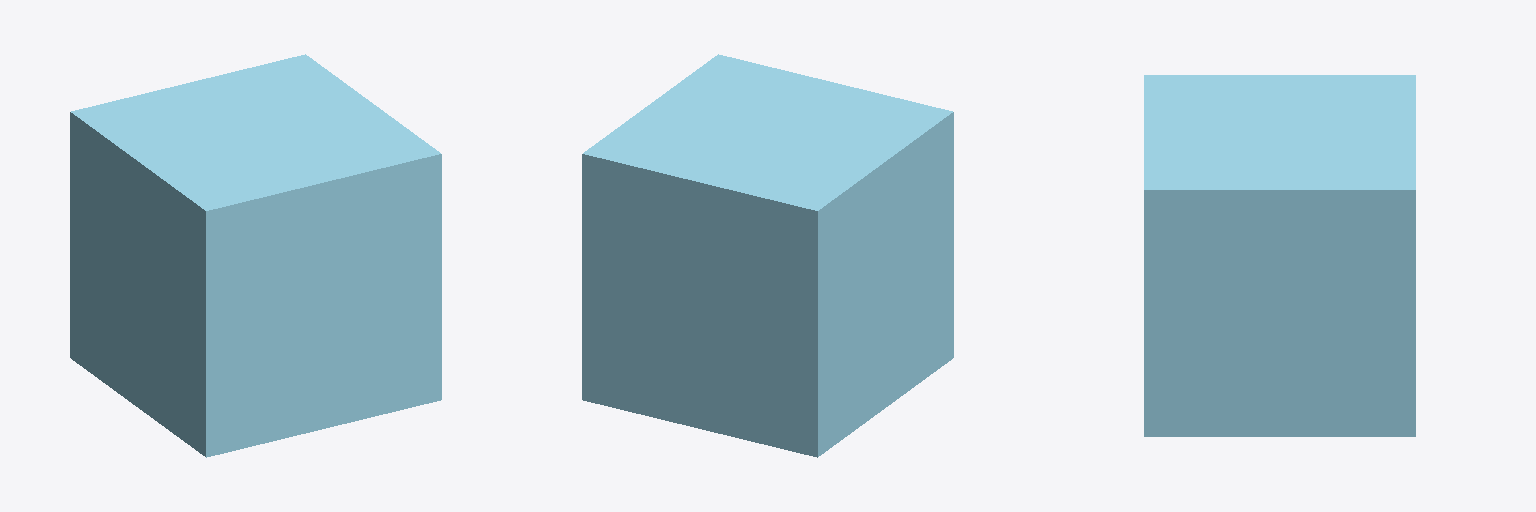
The model's file is skybox1.obj.
3 views of the same model, side by side, from view 1: azimuth 30°, elevation 25°; view 2: azimuth 150°, elevation 25°; view 3: azimuth 270°, elevation 25° (orthographic).
Visible parts, largest first — view 1: Sky_Cube; view 2: Sky_Cube; view 3: Sky_Cube.
Part boxes in pixels (x1,y1,x2,y2): Sky_Cube: (70,54,441,457); Sky_Cube: (582,54,953,457); Sky_Cube: (1144,75,1415,436).
Size of the model in its own units: 20 by 20 by 20.